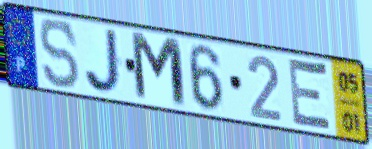2: (246, 53, 284, 124)
6: (186, 42, 227, 115)
E: (287, 54, 335, 137)
J: (82, 27, 126, 96)
M: (128, 29, 190, 112)
S: (37, 17, 82, 91)
